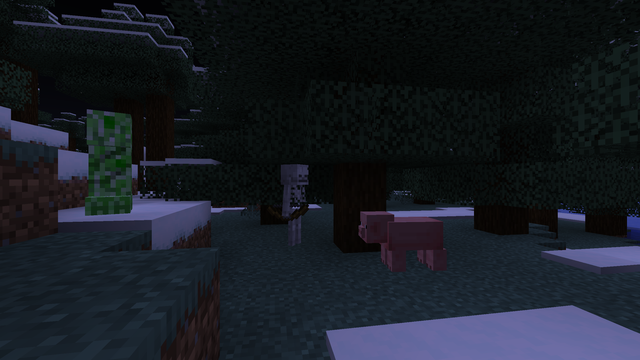cochons: (376, 214, 444, 275)
creepers: (74, 103, 142, 222)
squelettes: (282, 164, 307, 247)
